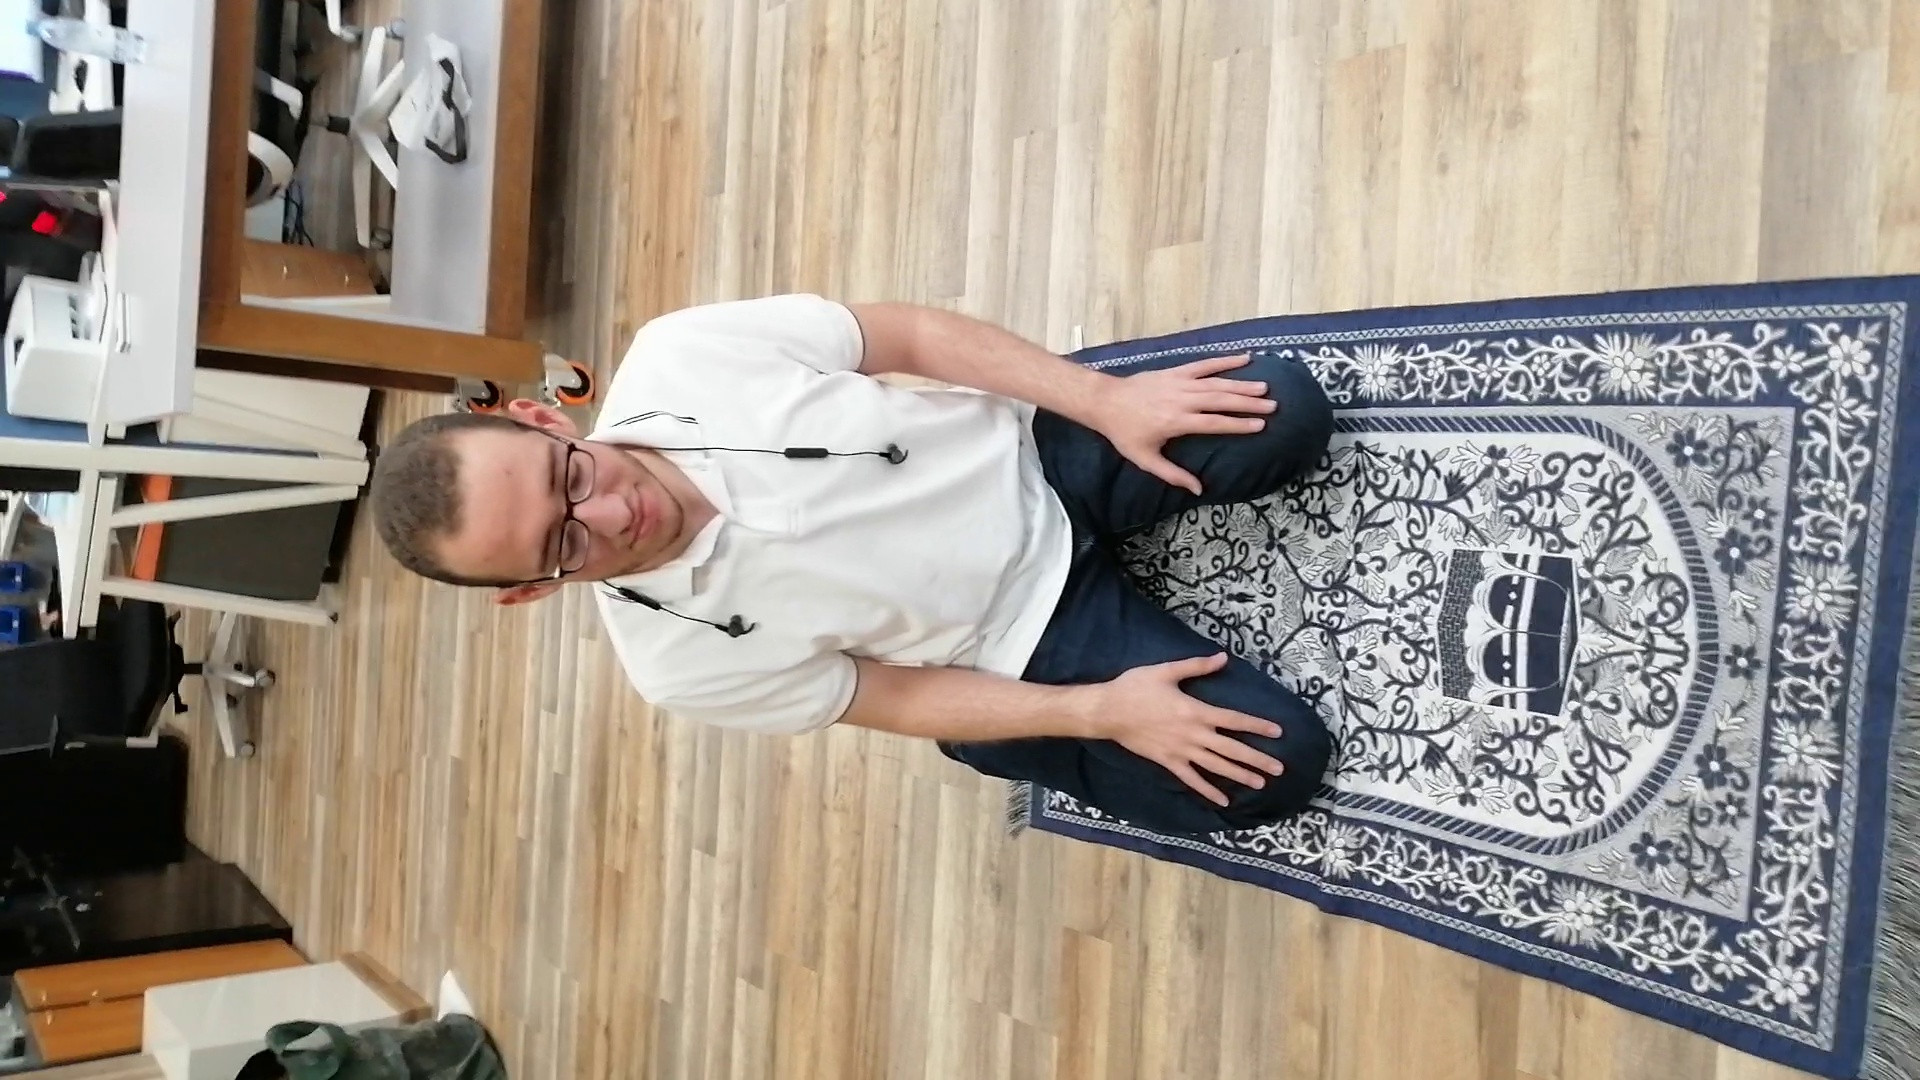sitting: (351, 281, 1342, 855)
